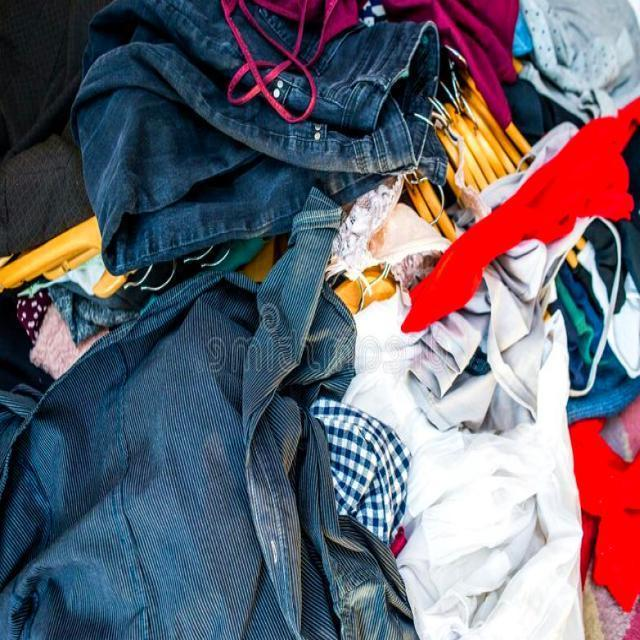clothes: (143, 96, 598, 604)
